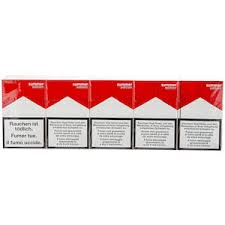marlboro: (178, 82, 222, 150), (3, 80, 45, 149), (47, 81, 89, 149), (90, 82, 133, 148), (135, 82, 177, 149)
